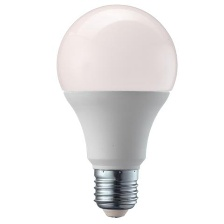light_bulb: (53, 3, 179, 223)
